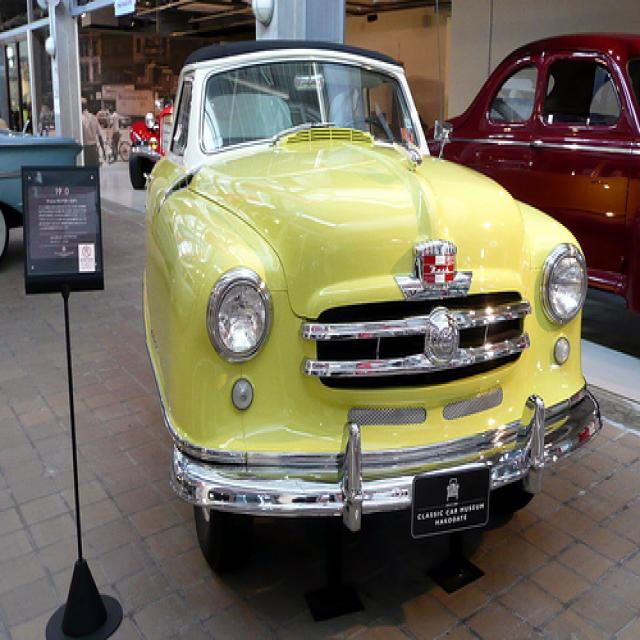Car: (151, 41, 603, 562), (430, 30, 640, 307)
